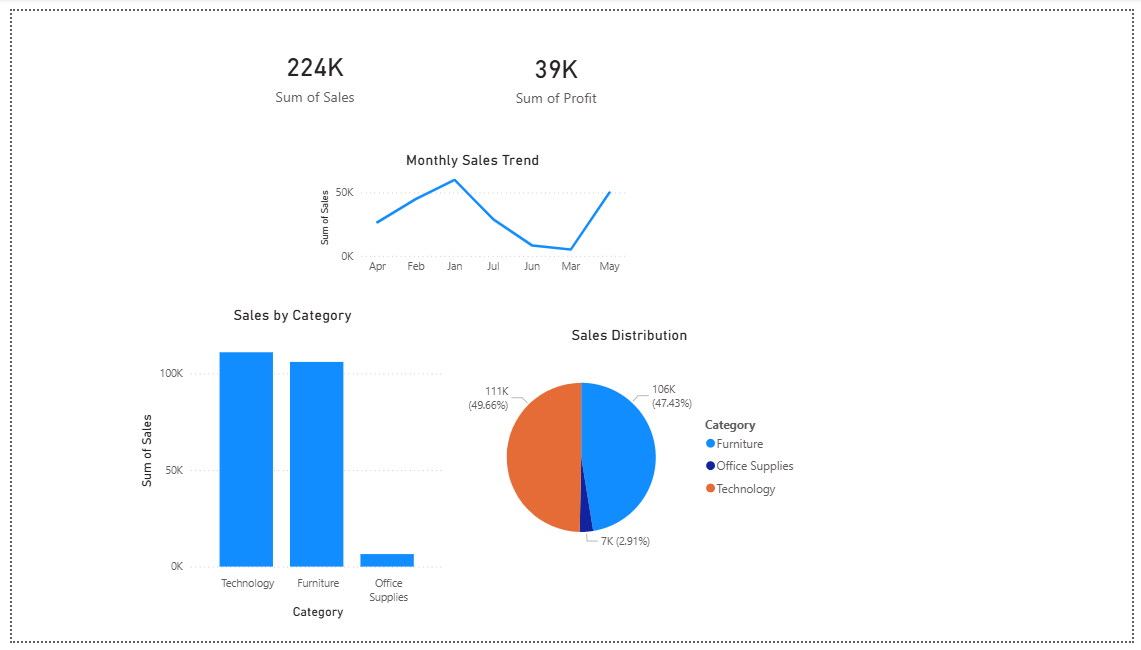

What the dashboard file says about the page in this screenshot:
{"tool":"powerbi","page":{"name":"Page 1","canvas":[1280,720],"ordinal":0},"visuals":[{"type":"card","fields":{"Values":["Sum(Sheet1.Sales)"]},"box":[262.9,0,167.1,145.7],"z":0},{"type":"pieChart","title":"Sales Distribution","fields":{"Y":["Sum(Sheet1.Sales)"],"Series":["Sheet1.Category"]},"box":[504.3,360,402.9,281.4],"z":1000},{"type":"card","fields":{"Values":["Sum(Sheet1.Profit)"]},"box":[538.6,0,167.1,150],"z":2000},{"type":"columnChart","title":" Sales by Category","fields":{"Category":["Sheet1.Category"],"Y":["Sum(Sheet1.Sales)"]},"box":[141.4,337.1,358.6,362.9],"z":3000},{"type":"lineChart","title":"Monthly Sales Trend","fields":{"Category":["Sheet1.Month"],"Y":["Sum(Sheet1.Sales)"]},"box":[347.1,160,358.6,150],"z":4000}]}

Visuals, with their boxes in screenshot pixels (x1, y1, x2, y2), scaled from the page's 1280x720 canvas onto the 1141x650 screenshot:
card - Sum(Sheet1.Sales): [234,0,383,132]
"Sales Distribution" pieChart: [450,325,809,579]
card - Sum(Sheet1.Profit): [480,0,629,135]
" Sales by Category" columnChart: [126,304,446,632]
"Monthly Sales Trend" lineChart: [309,144,629,280]
